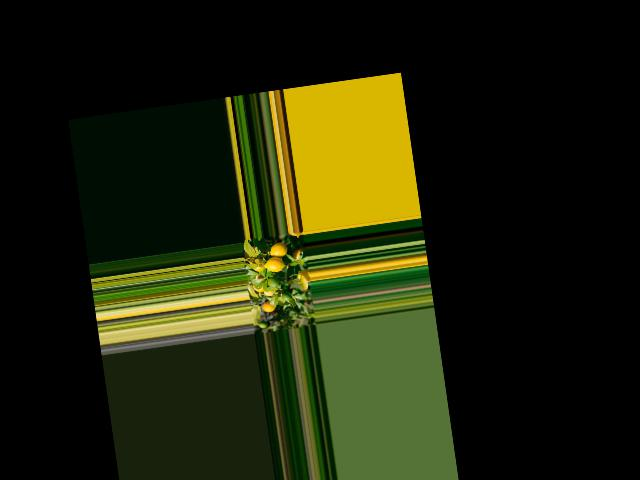lemon: (260, 299, 279, 316)
